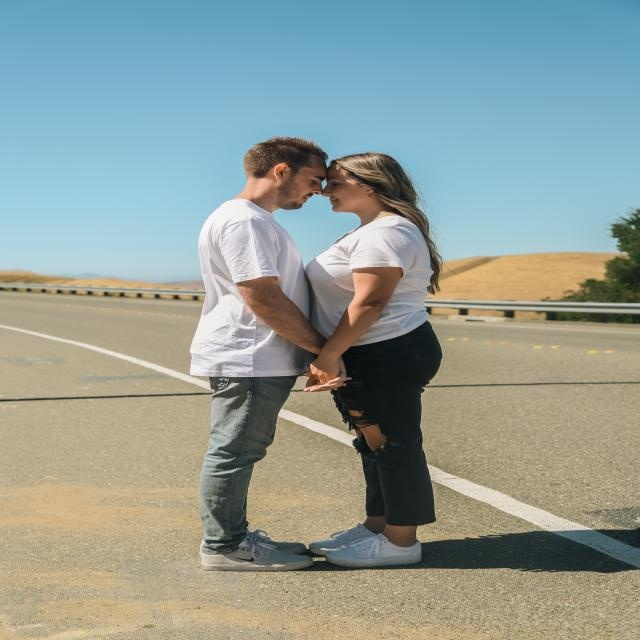ripped_pants: (316, 318, 447, 528)
